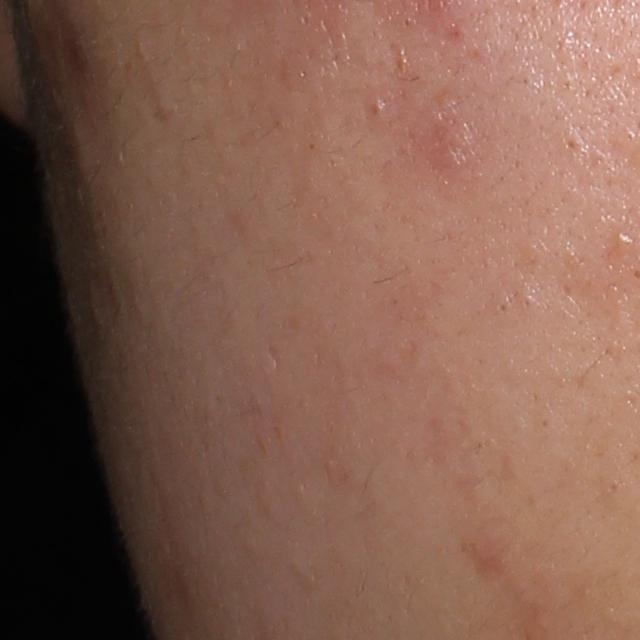atrophic_scar: (263, 340, 283, 376)
comedo: (614, 233, 637, 253)
papule: (426, 112, 476, 168)
